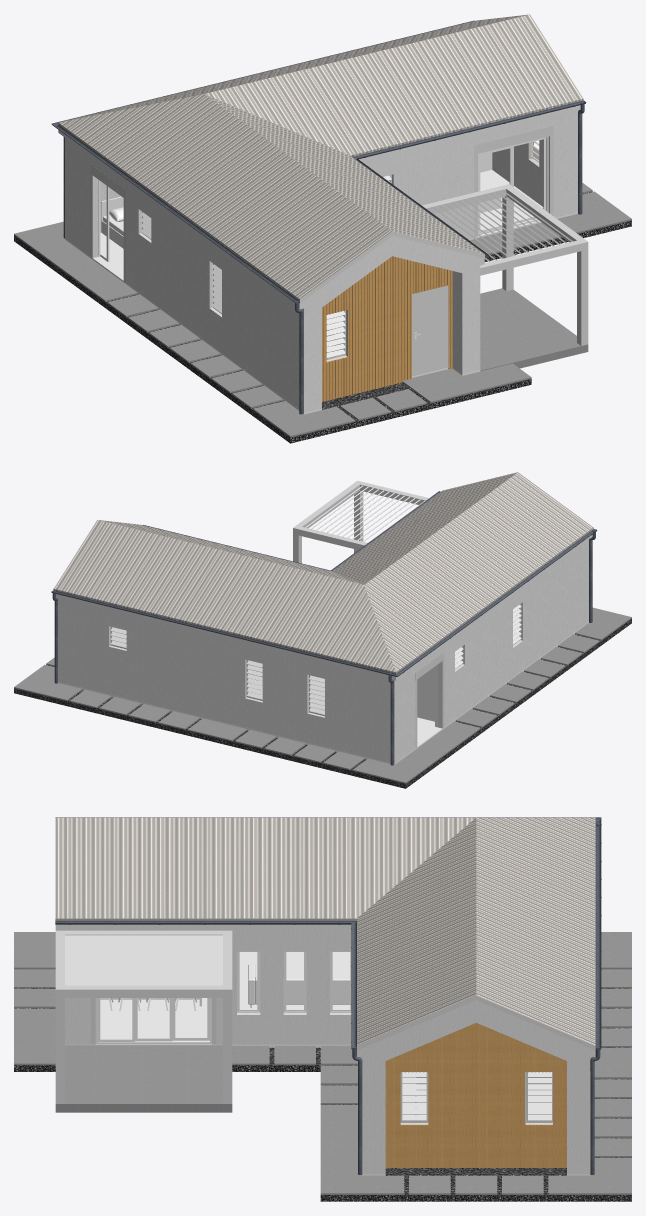
The model's file is TRADIHOME31.glb.
3 views of the same model, one above another, from view 1: azimuth 30°, elevation 25°; view 2: azimuth 150°, elevation 25°; view 3: azimuth 270°, elevation 25° (orthographic). The views are drawn at different scales.
Parts seen in each view (by area): view 1: Geometry132_Toit1_0, Geometry133_Toit1_0, Geometry4_Murs_0, Geometry21_Murs_0, Geometry131_Toit1_0, Geometry669_sol pergola_0, Geometry171_sol_0, Geometry111_dalles_0, Geometry12_porte_0, Geometry134_Toit1_0, Geometry100_dalles_0, Geometry112_dalles_0 (+35 smaller); view 2: Geometry15_Murs_0, Geometry134_Toit1_0, Geometry132_Toit1_0, Geometry4_Murs_0, Geometry131_Toit1_0, Geometry171_sol_0, Geometry111_dalles_0, Geometry680_volet pergola_0, Geometry133_Toit1_0, Geometry167_Murs_0, Geometry98_sol int_0, Geometry175_goutieres_0 (+27 smaller); view 3: Geometry131_Toit1_0, Geometry134_Toit1_0, Geometry133_Toit1_0, Geometry5_Murs_0, Geometry669_sol pergola_0, Geometry680_volet pergola_0, Geometry98_sol int_0, Geometry171_sol_0, Geometry112_dalles_0, Geometry139_Murs_0, Geometry141_Murs_0, Geometry100_dalles_0 (+45 smaller).
Boxes of the visible parts, bbox=[...] form: Geometry132_Toit1_0: bbox=[58, 94, 391, 300]; Geometry133_Toit1_0: bbox=[205, 14, 583, 156]; Geometry4_Murs_0: bbox=[65, 138, 309, 412]; Geometry21_Murs_0: bbox=[363, 114, 575, 238]; Geometry131_Toit1_0: bbox=[205, 94, 483, 253]; Geometry669_sol pergola_0: bbox=[480, 288, 588, 371]; Geometry171_sol_0: bbox=[14, 191, 631, 443]; Geometry111_dalles_0: bbox=[14, 221, 137, 301]; Geometry12_porte_0: bbox=[412, 285, 448, 376]; Geometry134_Toit1_0: bbox=[61, 14, 528, 121]; Geometry100_dalles_0: bbox=[402, 363, 531, 402]; Geometry112_dalles_0: bbox=[470, 191, 631, 254]; Geometry15_Murs_0: bbox=[58, 601, 389, 762]; Geometry134_Toit1_0: bbox=[53, 520, 395, 673]; Geometry132_Toit1_0: bbox=[364, 472, 593, 673]; Geometry4_Murs_0: bbox=[390, 545, 588, 763]; Geometry131_Toit1_0: bbox=[332, 472, 517, 584]; Geometry171_sol_0: bbox=[14, 618, 631, 788]; Geometry111_dalles_0: bbox=[352, 721, 480, 783]; Geometry680_volet pergola_0: bbox=[305, 485, 424, 542]; Geometry133_Toit1_0: bbox=[99, 520, 362, 584]; Geometry167_Murs_0: bbox=[56, 594, 395, 680]; Geometry98_sol int_0: bbox=[58, 622, 588, 764]; Geometry175_goutieres_0: bbox=[51, 590, 397, 676]; Geometry131_Toit1_0: bbox=[55, 817, 475, 920]; Geometry134_Toit1_0: bbox=[476, 817, 595, 1045]; Geometry133_Toit1_0: bbox=[357, 818, 476, 1045]; Geometry5_Murs_0: bbox=[65, 930, 351, 1044]; Geometry669_sol pergola_0: bbox=[55, 1045, 232, 1112]; Geometry680_volet pergola_0: bbox=[65, 935, 222, 985]; Geometry98_sol int_0: bbox=[65, 952, 590, 1175]; Geometry171_sol_0: bbox=[14, 988, 631, 1201]; Geometry112_dalles_0: bbox=[320, 1105, 404, 1194]; Geometry139_Murs_0: bbox=[476, 1000, 590, 1070]; Geometry141_Murs_0: bbox=[362, 1000, 476, 1070]; Geometry100_dalles_0: bbox=[14, 1008, 55, 1065].
Size of the model in its own units: 13.3 by 4.49 by 13.3.
39 materials, 8 textured.
